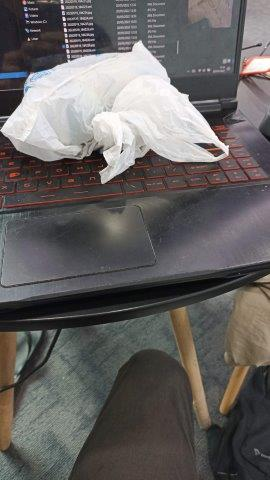plastik: (1, 42, 228, 183)
